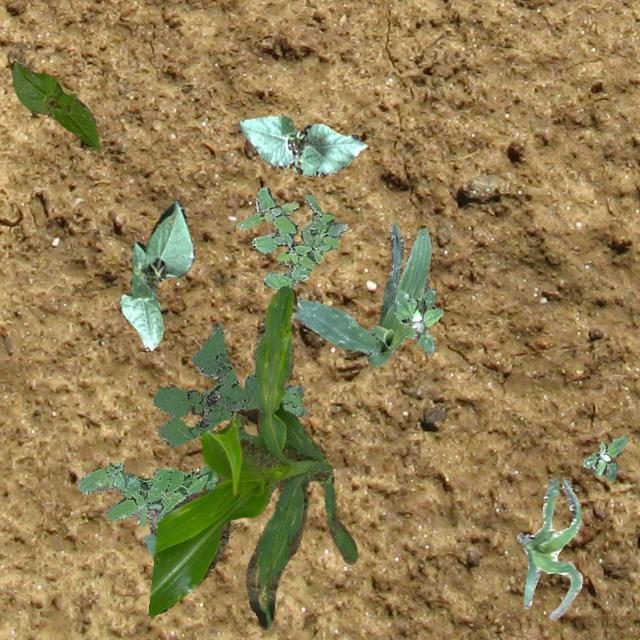crop: (146, 284, 358, 628), (293, 221, 432, 365), (118, 200, 194, 350), (516, 476, 582, 618), (238, 114, 366, 176), (10, 61, 99, 148), (142, 502, 160, 560)
weed: (152, 322, 260, 446), (235, 185, 346, 288), (76, 462, 220, 526), (393, 287, 442, 353), (582, 434, 626, 480), (280, 384, 306, 416)
